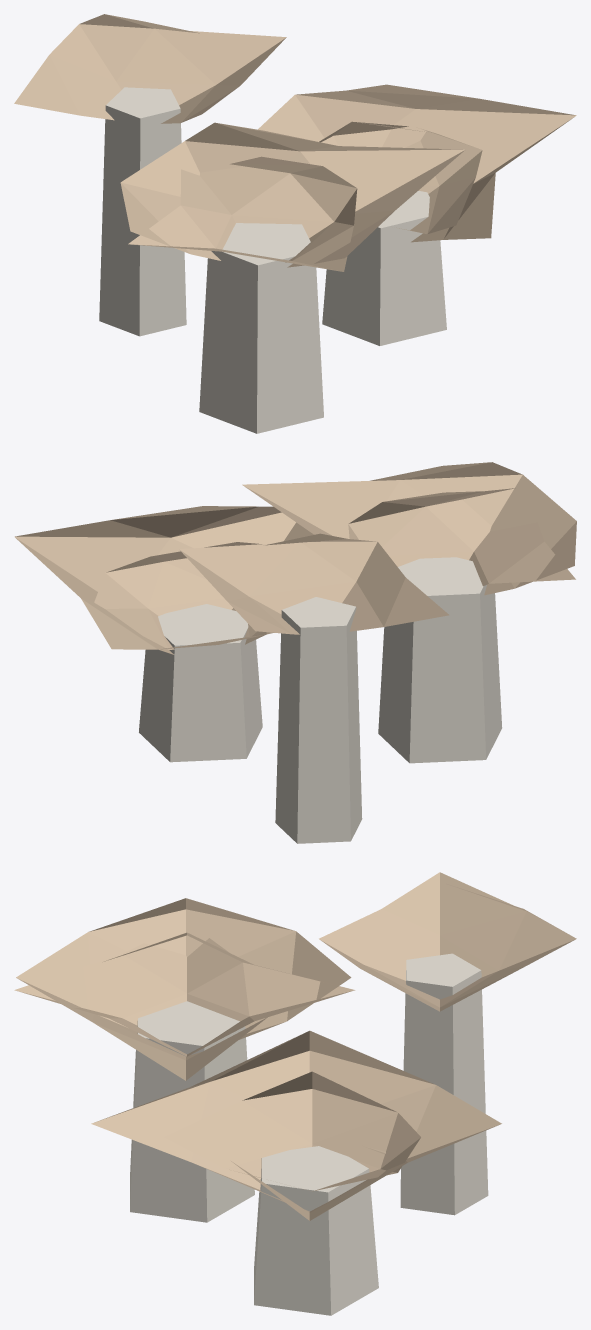
Rendered from mushroom_v39.glb.
3 views of the same model, one above another, from view 1: azimuth 30°, elevation 25°; view 2: azimuth 150°, elevation 25°; view 3: azimuth 270°, elevation 25° (orthographic). The views are drawn at different scales.
Parts seen in each view (by area): view 1: lod0; view 2: lod0; view 3: lod0.
Boxes of the visible parts, box(x1,y1,x2,y2) form: lod0: box(14, 14, 576, 433); lod0: box(14, 462, 576, 843); lod0: box(14, 872, 576, 1315).
Size of what is drawn, in the model's own units: 0.8395 by 0.4669 by 0.769.
